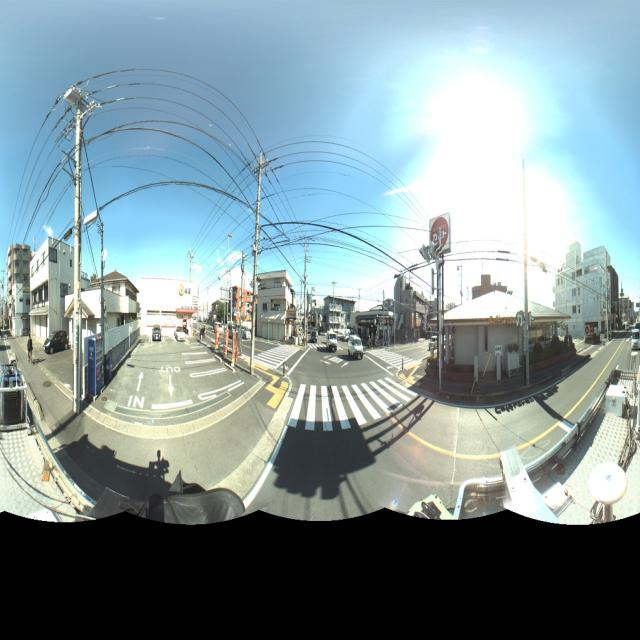b_1: (436, 264, 569, 406), (551, 222, 620, 352), (32, 230, 90, 360), (71, 266, 138, 364), (130, 274, 202, 351), (252, 264, 296, 347), (394, 268, 434, 349), (8, 238, 33, 344), (215, 277, 256, 341), (322, 284, 362, 344)
